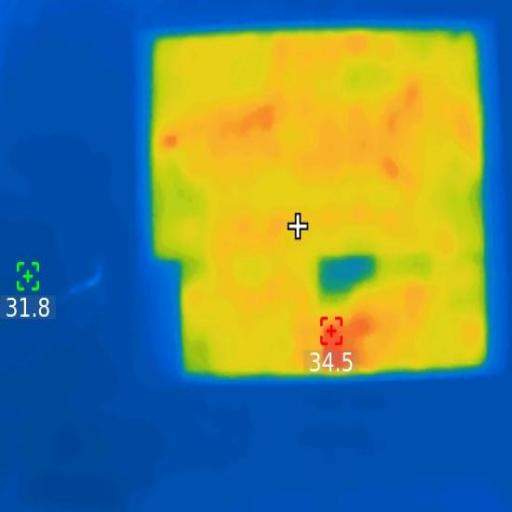hotspot: (314, 317, 376, 372), (158, 130, 183, 150)
